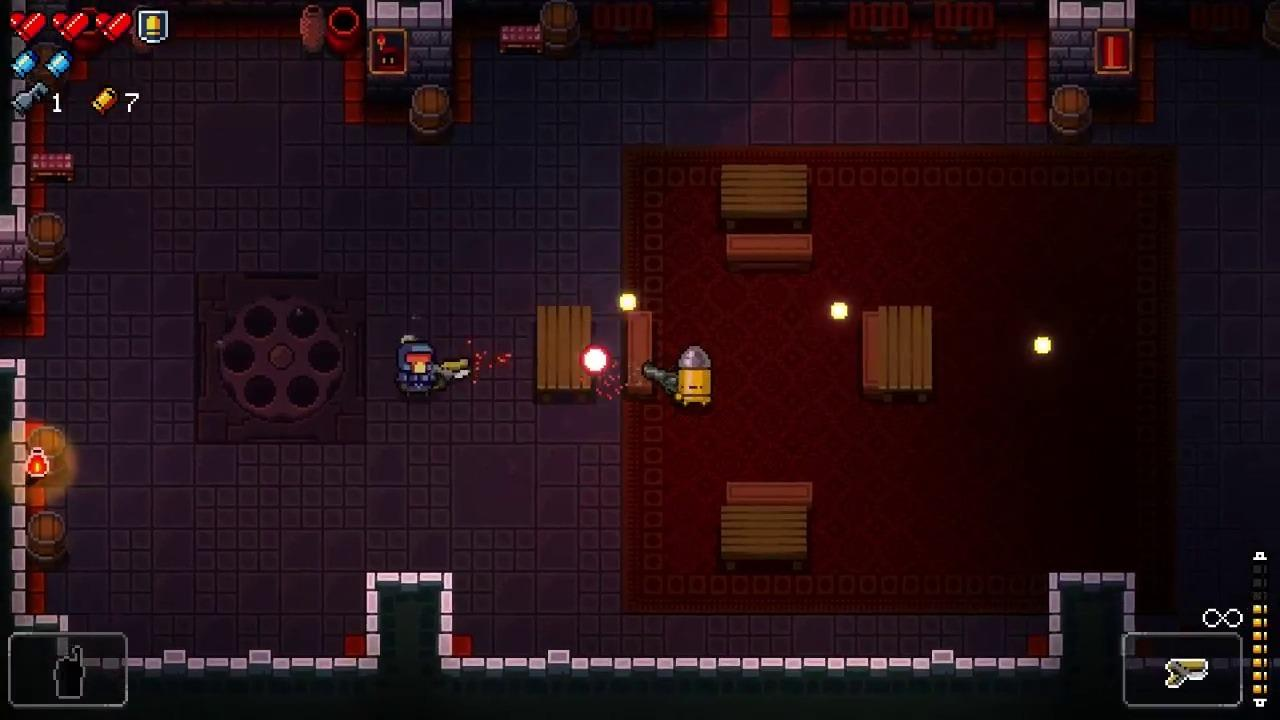bullet: (580, 346, 610, 374)
bullet_kin: (678, 344, 712, 410)
player: (395, 340, 438, 402)
table: (721, 164, 808, 229), (721, 507, 807, 571), (877, 305, 932, 403), (537, 306, 590, 401)
teleporter: (195, 270, 368, 444)
